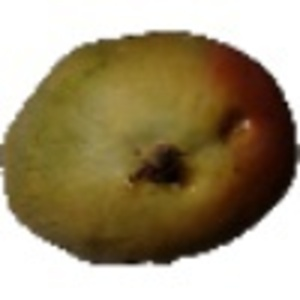mamão: (1, 24, 297, 272)
